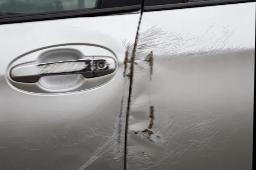Door: (127, 4, 253, 169), (9, 15, 142, 170)
